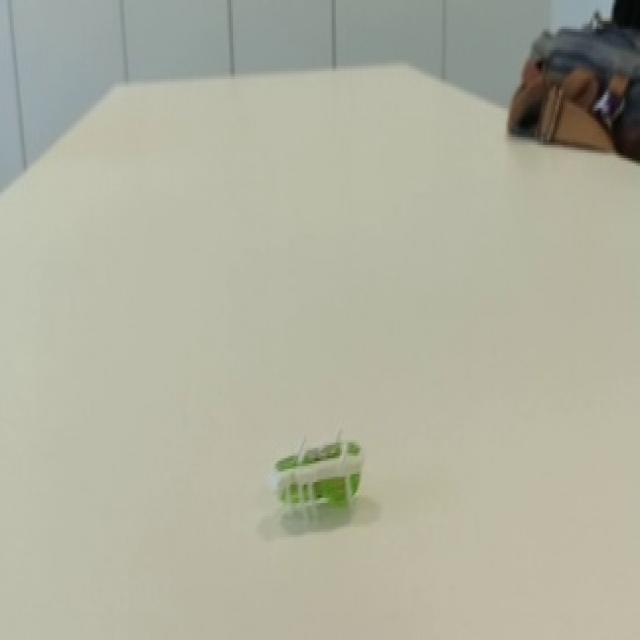4_NanoBug_Blanco: (224, 392, 390, 535)
